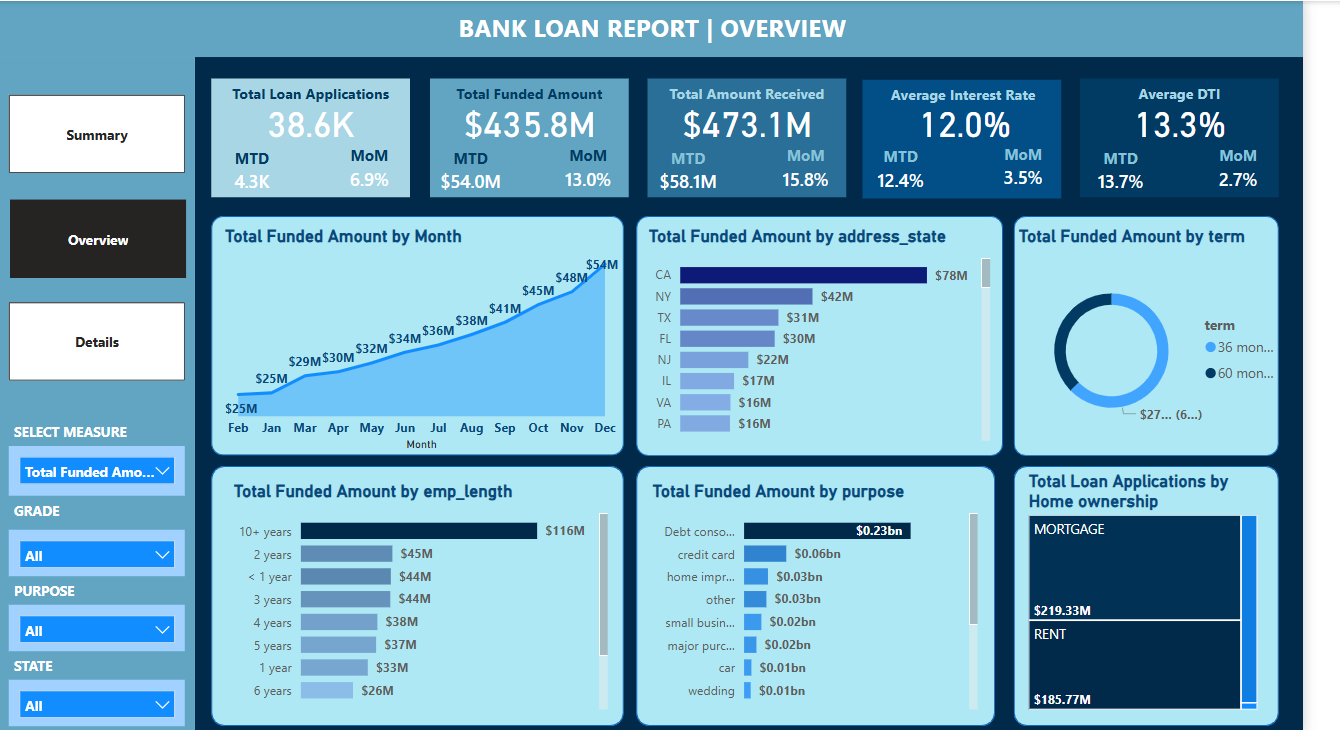

The page's visual inventory and layout, read from the dashboard file:
{"tool":"powerbi","page":{"name":"Overview","canvas":[1280,720],"ordinal":1},"visuals":[{"type":"shape","box":[207.4,76.1,195.1,116.6],"z":0,"group":"g1"},{"type":"shape","box":[422.1,76.1,195.1,116.6],"z":0,"group":"g2"},{"type":"shape","box":[635.6,76.1,195.1,116.6],"z":0,"group":"g3"},{"type":"shape","box":[1060.1,76.1,195.1,116.6],"z":0,"group":"g5"},{"type":"shape","box":[846.6,77.4,195.1,116.6],"z":0,"group":"g4"},{"type":"shape","box":[207.4,211,405,235],"z":0},{"type":"shape","box":[0,55.2,191.4,665],"z":1000},{"type":"card","fields":{"Values":["financial_loan.Avg Interest Rate"]},"box":[866.4,93.2,162,50.3],"z":1000,"group":"g4"},{"type":"card","fields":{"Values":["financial_loan.Total Loan Applications"]},"box":[224.6,93.3,162,50.3],"z":1000,"group":"g1"},{"type":"card","fields":{"Values":["financial_loan.Total Funded Amount"]},"box":[439.3,93.3,162,50.3],"z":1000,"group":"g2"},{"type":"card","fields":{"Values":["financial_loan.Total Amount Received"]},"box":[652.8,93.3,162,50.3],"z":1000,"group":"g3"},{"type":"card","fields":{"Values":["financial_loan.Average DTI"]},"box":[1077.3,93.3,162,50.3],"z":1000,"group":"g5"},{"type":"shape","box":[0,0,1280.3,55],"z":2000},{"type":"textbox","box":[207.4,76.1,195.1,33.1],"z":2000,"group":"g1"},{"type":"textbox","box":[422.1,76.1,195.1,33.1],"z":2000,"group":"g2"},{"type":"textbox","box":[635.6,76.1,195.1,33.1],"z":2000,"group":"g3"},{"type":"textbox","box":[1060.1,76.1,195.1,33.1],"z":2000,"group":"g5"},{"type":"textbox","box":[848,77.3,195.1,33.1],"z":2000,"group":"g4"},{"type":"textbox","box":[433.1,4.9,414.7,44.2],"z":3000},{"type":"card","title":"MTD","fields":{"Values":["financial_loan.MTD Average Interest Rate"]},"box":[844.6,142,79.8,51.5],"z":3000,"group":"g4"},{"type":"card","title":"MTD","fields":{"Values":["financial_loan.MTD Loan Applications"]},"box":[207.4,143.6,79.8,51.5],"z":3000,"group":"g1"},{"type":"card","title":"MTD","fields":{"Values":["financial_loan.MTD Total Funded Amount"]},"box":[422.1,143.6,79.8,51.5],"z":3000,"group":"g2"},{"type":"card","title":"MTD","fields":{"Values":["financial_loan.MTD Total Amount Received"]},"box":[635.6,143.6,79.8,51.5],"z":3000,"group":"g3"},{"type":"card","title":"MTD","fields":{"Values":["financial_loan.MTD Average DTI"]},"box":[1060.1,143.6,79.8,51.5],"z":3000,"group":"g5"},{"type":"group","id":"g1","title":"Group 1","box":[207.4,76.1,195.1,119],"z":4000},{"type":"card","title":"MoM","fields":{"Values":["financial_loan.MOM Interest Rate"]},"box":[964.6,140.5,79.8,51.5],"z":4000,"group":"g4"},{"type":"card","title":"MoM","fields":{"Values":["financial_loan.MOM Loan Apllications"]},"box":[322.7,141.1,79.8,51.5],"z":4000,"group":"g1"},{"type":"card","title":"MoM","fields":{"Values":["financial_loan.MOM Funded Amount"]},"box":[537.4,141.1,79.8,51.5],"z":4000,"group":"g2"},{"type":"card","title":"MoM","fields":{"Values":["financial_loan.MOM AMount Received"]},"box":[750.9,141.1,79.8,51.5],"z":4000,"group":"g3"},{"type":"card","title":"MoM","fields":{"Values":["financial_loan.MOM Average DTI"]},"box":[1175.4,141.1,79.8,51.5],"z":4000,"group":"g5"},{"type":"group","id":"g2","title":"Group 1","box":[422.1,76.1,195.1,119],"z":5000},{"type":"group","id":"g3","title":"Group 1","box":[635.6,76.1,195.1,119],"z":6000},{"type":"group","id":"g4","title":"Group 1","box":[844.6,77.3,199.7,116.6],"z":7000},{"type":"group","id":"g5","title":"Group 1","box":[1060.1,76.1,195.1,119],"z":8000},{"type":"slicer","fields":{"Values":["financial_loan.address_state"]},"box":[8.6,666.3,173,45.4],"z":9000},{"type":"textbox","box":[8.6,638,100.6,28.2],"z":10000},{"type":"slicer","fields":{"Values":["financial_loan.purpose"]},"box":[9.8,592.6,173,45.4],"z":11000},{"type":"textbox","box":[8.6,485.9,100.6,28.2],"z":12000},{"type":"textbox","box":[8.6,564.4,100.6,28.2],"z":13000},{"type":"slicer","fields":{"Values":["financial_loan.sub_grade"]},"box":[8.6,519,173,45.4],"z":14000},{"type":"areaChart","fields":{"Y":["financial_loan.Total Funded Amount"],"Category":["Date Table.Month"]},"box":[216,220.9,396.3,225.8],"z":15000},{"type":"slicer","fields":{"Values":["Select Field.Select Field"]},"box":[8.6,436.8,173,49.1],"z":16000},{"type":"textbox","box":[8.6,408.6,173,28.2],"z":17000},{"type":"shape","box":[624.5,211,360,235.6],"z":18000},{"type":"barChart","fields":{"Y":["financial_loan.Total Funded Amount"],"Category":["financial_loan.address_state"]},"box":[631.9,220.9,344.8,216],"z":19000},{"type":"shape","box":[995.1,211,260.1,235.6],"z":20000},{"type":"donutChart","fields":{"Y":["financial_loan.Total Funded Amount"],"Category":["financial_loan.term"]},"box":[995.1,220.9,271.2,225.8],"z":21000},{"type":"shape","box":[995.1,456.4,260.1,255.2],"z":22000},{"type":"shape","box":[624.5,456.4,352.1,255.2],"z":23000},{"type":"shape","box":[207.4,456.4,404.9,255.2],"z":24000},{"type":"barChart","fields":{"Y":["financial_loan.Total Funded Amount"],"Category":["financial_loan.purpose"]},"box":[635.6,471.2,328.8,229.4],"z":25000},{"type":"barChart","fields":{"Y":["financial_loan.Total Funded Amount"],"Category":["financial_loan.emp_length"]},"box":[224.5,471.2,376.7,229.4],"z":26000},{"type":"treemap","title":"Total Loan Applications by Home ownership","fields":{"Values":["financial_loan.Total Funded Amount"],"Group":["financial_loan.home_ownership"]},"box":[1004.9,461.4,234.4,239.3],"z":27000},{"type":"pageNavigator","box":[8.6,92,173,77.3],"z":28000},{"type":"pageNavigator","box":[8.6,295.7,173,77.3],"z":29000},{"type":"pageNavigator","box":[9.8,195.1,173,77.3],"z":30000}]}

Visuals, with their boxes on the page's 1280x720 design canvas (x1, y1, x2, y2). These are canvas units, not pixel positions in the 1340x730 screenshot, which may show the page scaled, cropped or inside an application window:
shape: (207, 76, 402, 193)
shape: (422, 76, 617, 193)
shape: (636, 76, 831, 193)
shape: (1060, 76, 1255, 193)
shape: (847, 77, 1042, 194)
shape: (207, 211, 612, 446)
shape: (0, 55, 191, 720)
card - financial_loan.Avg Interest Rate: (866, 93, 1028, 144)
card - financial_loan.Total Loan Applications: (225, 93, 387, 144)
card - financial_loan.Total Funded Amount: (439, 93, 601, 144)
card - financial_loan.Total Amount Received: (653, 93, 815, 144)
card - financial_loan.Average DTI: (1077, 93, 1239, 144)
shape: (0, 0, 1280, 55)
textbox: (207, 76, 402, 109)
textbox: (422, 76, 617, 109)
textbox: (636, 76, 831, 109)
textbox: (1060, 76, 1255, 109)
textbox: (848, 77, 1043, 110)
textbox: (433, 5, 848, 49)
"MTD" card: (845, 142, 924, 194)
"MTD" card: (207, 144, 287, 195)
"MTD" card: (422, 144, 502, 195)
"MTD" card: (636, 144, 715, 195)
"MTD" card: (1060, 144, 1140, 195)
"Group 1" group: (207, 76, 402, 195)
"MoM" card: (965, 140, 1044, 192)
"MoM" card: (323, 141, 402, 193)
"MoM" card: (537, 141, 617, 193)
"MoM" card: (751, 141, 831, 193)
"MoM" card: (1175, 141, 1255, 193)
"Group 1" group: (422, 76, 617, 195)
"Group 1" group: (636, 76, 831, 195)
"Group 1" group: (845, 77, 1044, 194)
"Group 1" group: (1060, 76, 1255, 195)
slicer - financial_loan.address_state: (9, 666, 182, 712)
textbox: (9, 638, 109, 666)
slicer - financial_loan.purpose: (10, 593, 183, 638)
textbox: (9, 486, 109, 514)
textbox: (9, 564, 109, 593)
slicer - financial_loan.sub_grade: (9, 519, 182, 564)
areaChart - financial_loan.Total Funded Amount x Date Table.Month: (216, 221, 612, 447)
slicer - Select Field.Select Field: (9, 437, 182, 486)
textbox: (9, 409, 182, 437)
shape: (624, 211, 984, 447)
barChart - financial_loan.Total Funded Amount x financial_loan.address_state: (632, 221, 977, 437)
shape: (995, 211, 1255, 447)
donutChart - financial_loan.Total Funded Amount x financial_loan.term: (995, 221, 1266, 447)
shape: (995, 456, 1255, 712)
shape: (624, 456, 977, 712)
shape: (207, 456, 612, 712)
barChart - financial_loan.Total Funded Amount x financial_loan.purpose: (636, 471, 964, 701)
barChart - financial_loan.Total Funded Amount x financial_loan.emp_length: (224, 471, 601, 701)
"Total Loan Applications by Home ownership" treemap: (1005, 461, 1239, 701)
pageNavigator: (9, 92, 182, 169)
pageNavigator: (9, 296, 182, 373)
pageNavigator: (10, 195, 183, 272)
